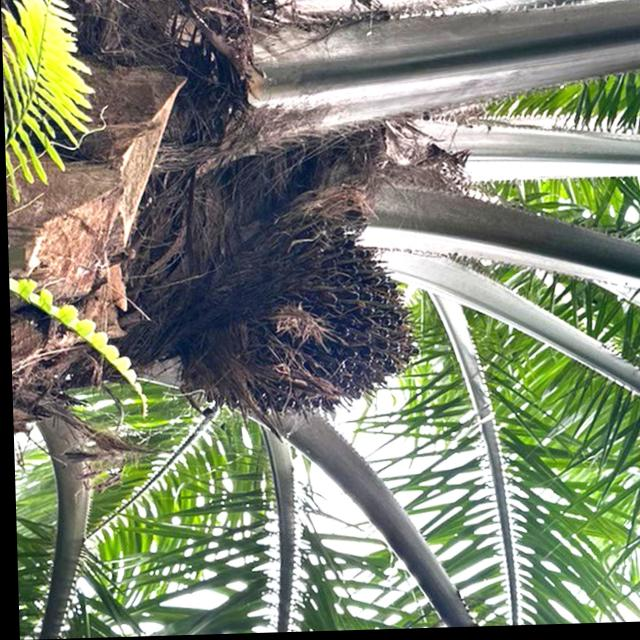unripe: (181, 204, 430, 451)
